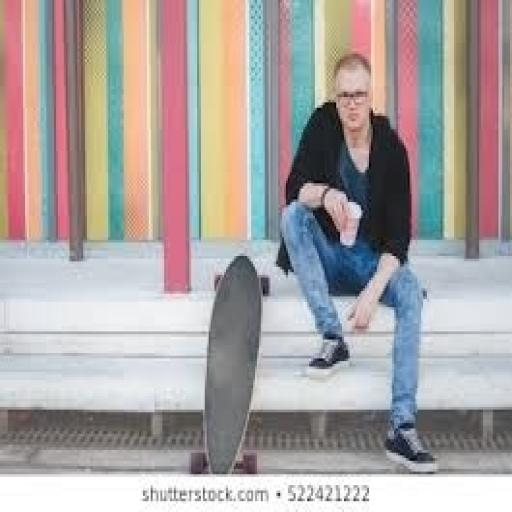sitting: (276, 48, 440, 472)
